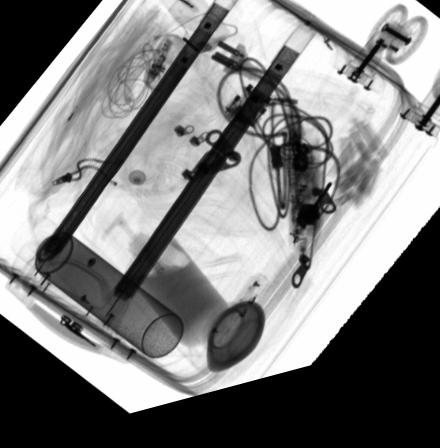Sprayer: (8, 214, 184, 367)
